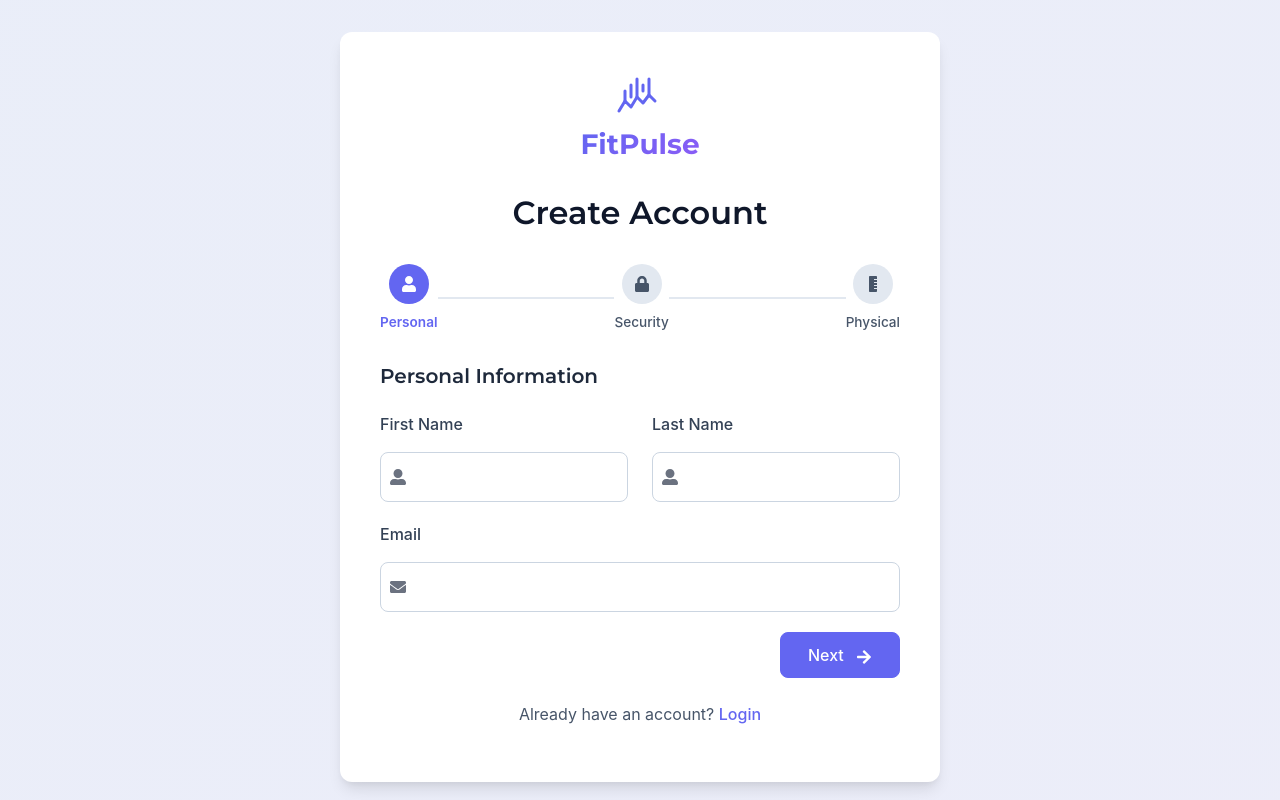
Register Component › moves to step 3 when next button is clicked with valid passwords
The width and height of the screenshot is (1280, 800).
Note: Fill out step 1
Type "John" into the field labelled "First Name" at [504, 477], box [380,452,628,502]
Type "Doe" into the field labelled "Last Name" at [776, 477], box [652,452,900,502]
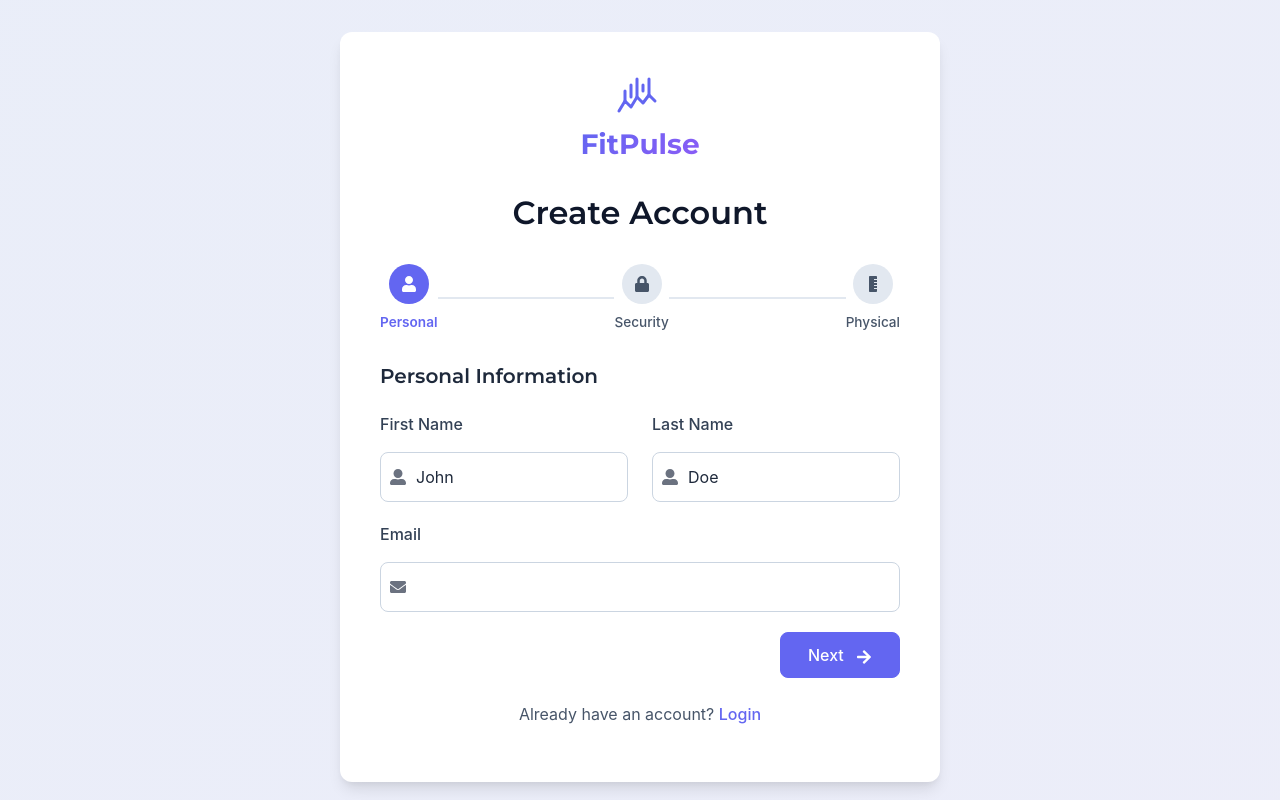
Type "john@example.com" into the field labelled "Email" at [640, 587], box [380,562,900,612]
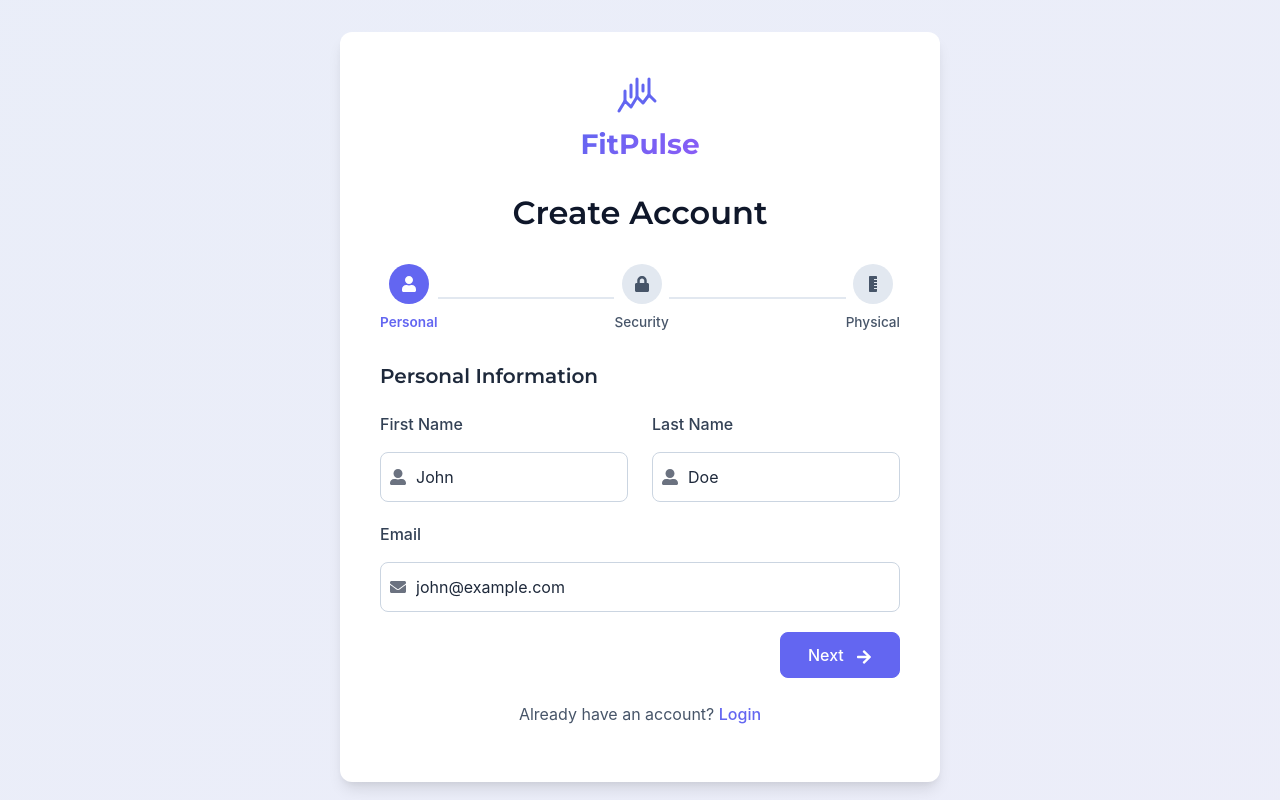
Note: Click next button to go to step 2
Click the button "Next" at [840, 655], box [780,632,900,678]
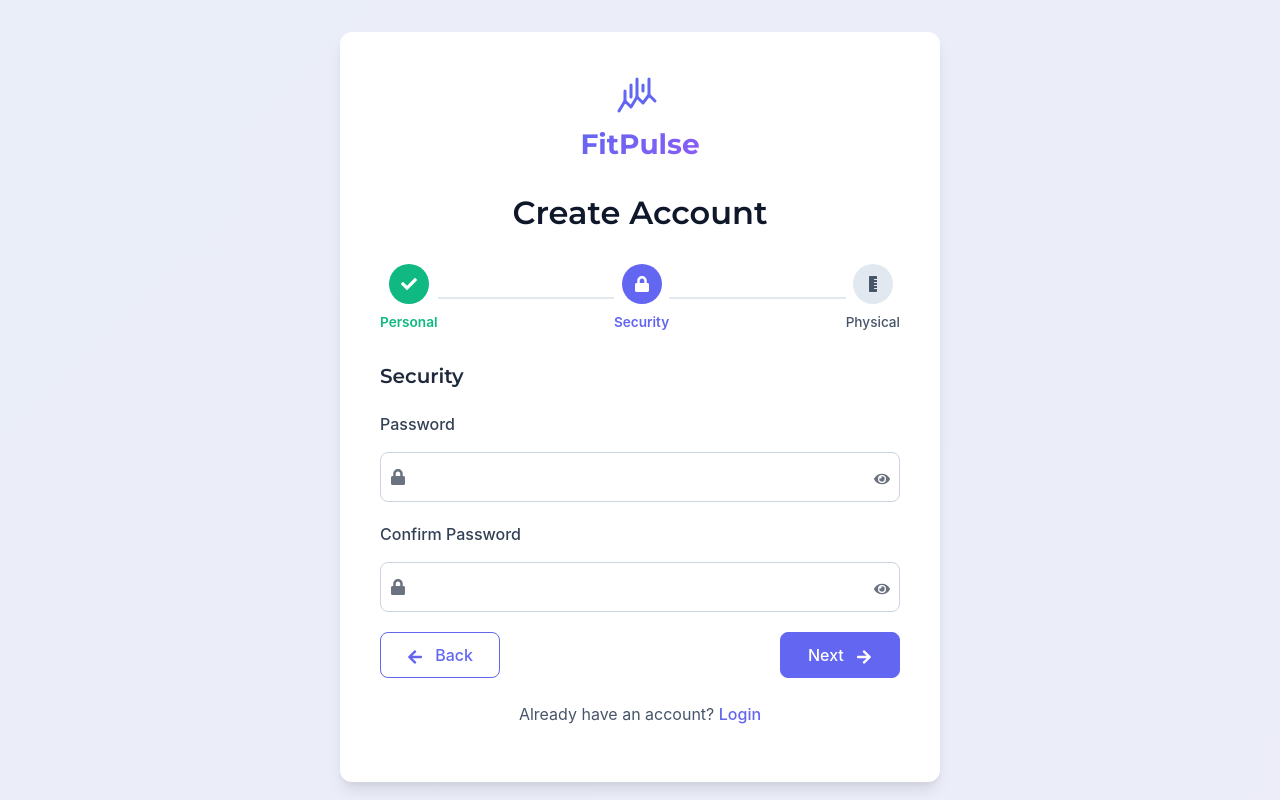
Note: Fill out step 2 with matching passwords
Type "password123" into the password field labelled "Password" at [640, 477], box [380,452,900,502]
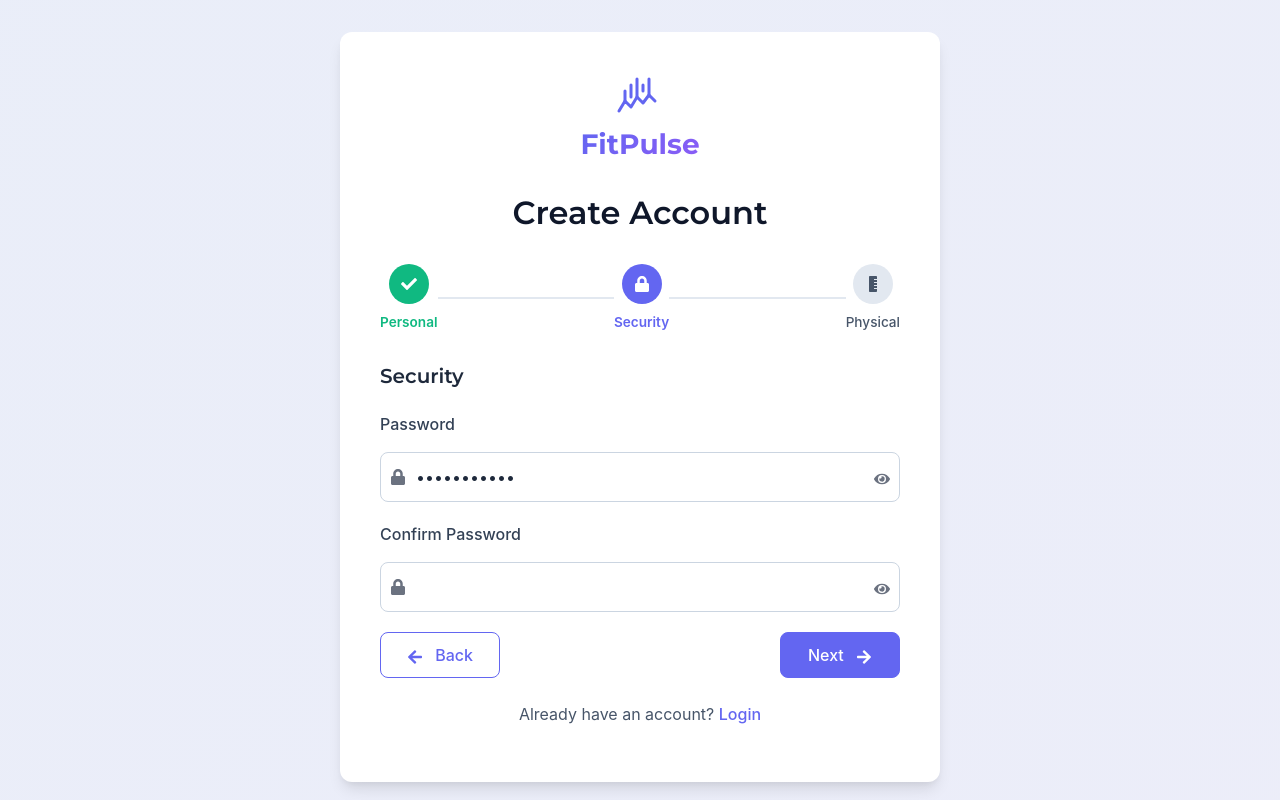
Type "password123" into the password field labelled "Confirm Password" at [640, 587], box [380,562,900,612]
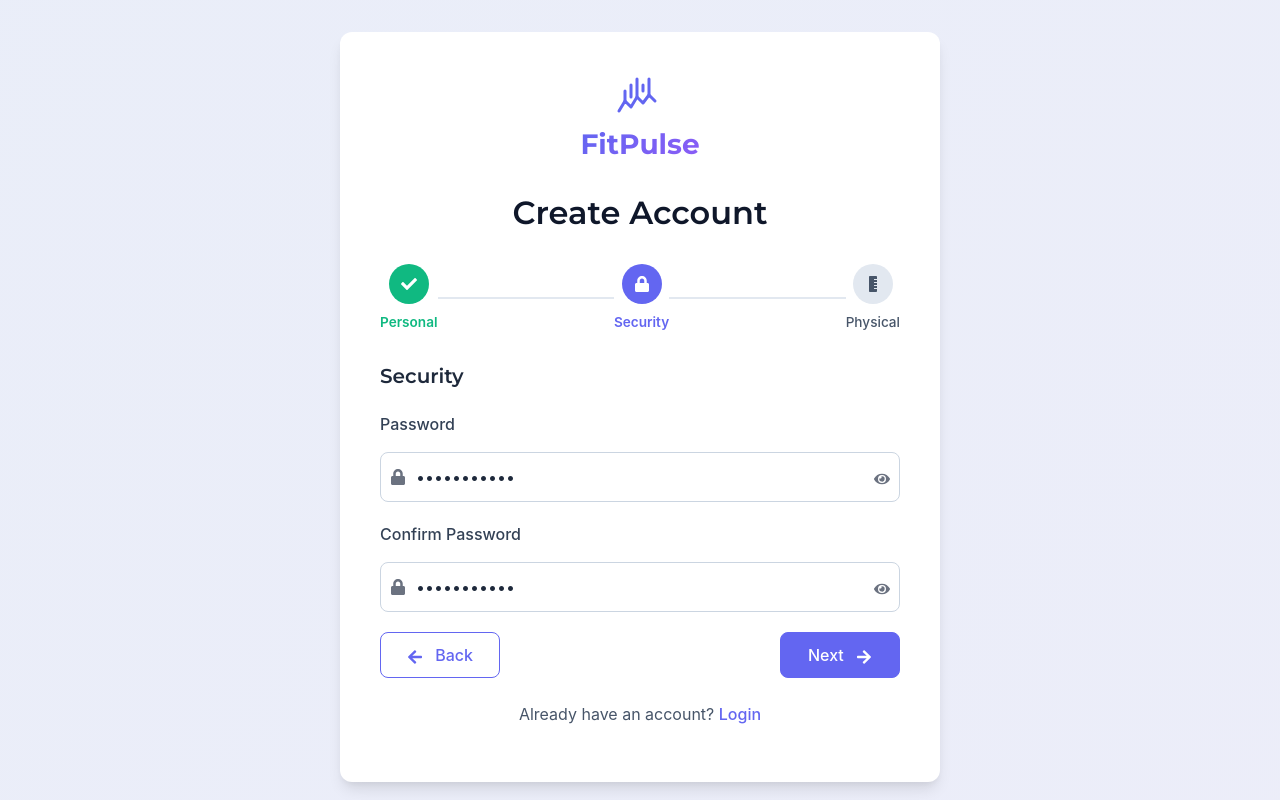
Note: Click next button to go to step 3
Click the button "Next" at [840, 655], box [780,632,900,678]
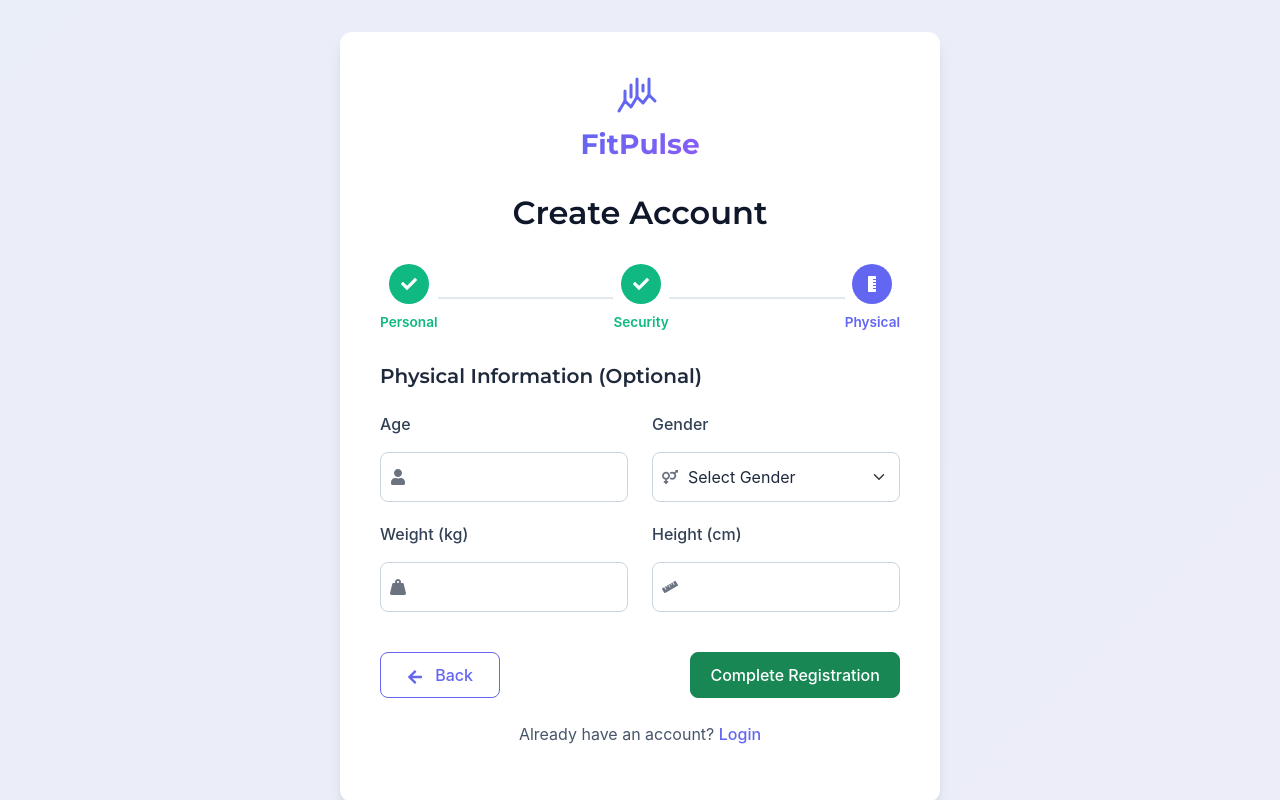
Check: the heading "Physical Information (Optional)" is shown, box [380,364,702,388]
